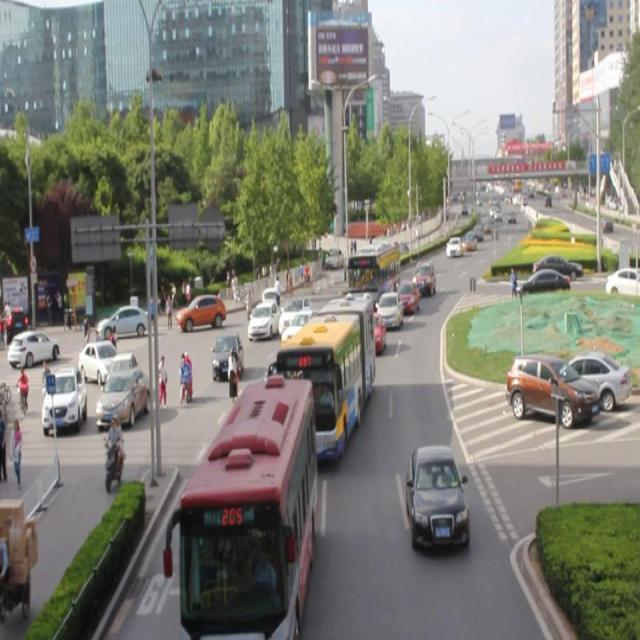car: (406, 442, 468, 551), (253, 363, 297, 423), (281, 310, 326, 354), (210, 331, 243, 379), (276, 293, 312, 336), (247, 298, 280, 340), (355, 311, 386, 354), (374, 291, 402, 330), (394, 279, 418, 315), (410, 262, 434, 297)
van: (181, 380, 313, 640), (273, 297, 371, 458), (347, 243, 399, 300)
